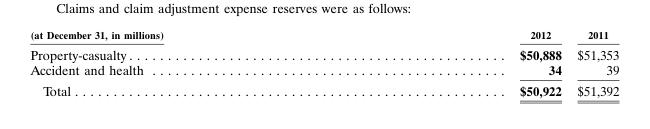table: (29, 28, 618, 98)
table column: (29, 28, 341, 98), (341, 28, 568, 98), (568, 28, 618, 98)
table column header: (29, 28, 618, 43)
table row: (29, 43, 618, 62), (29, 62, 618, 80), (29, 80, 618, 98), (29, 28, 618, 43)
